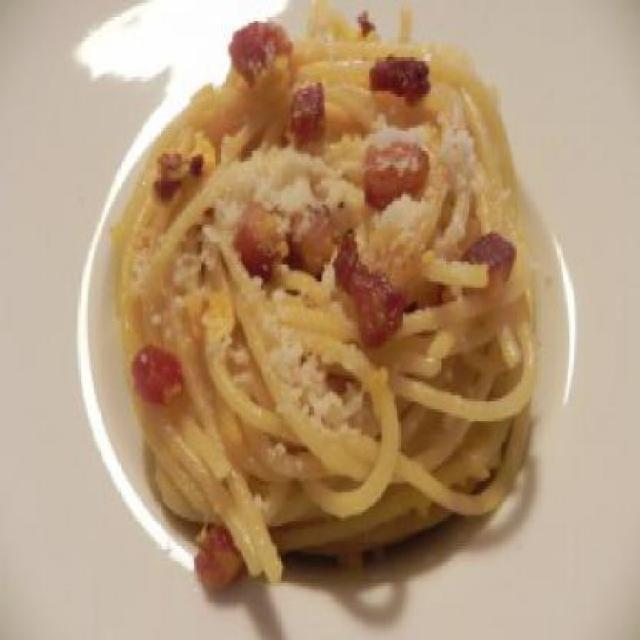Oil pasta: (126, 46, 580, 554)
